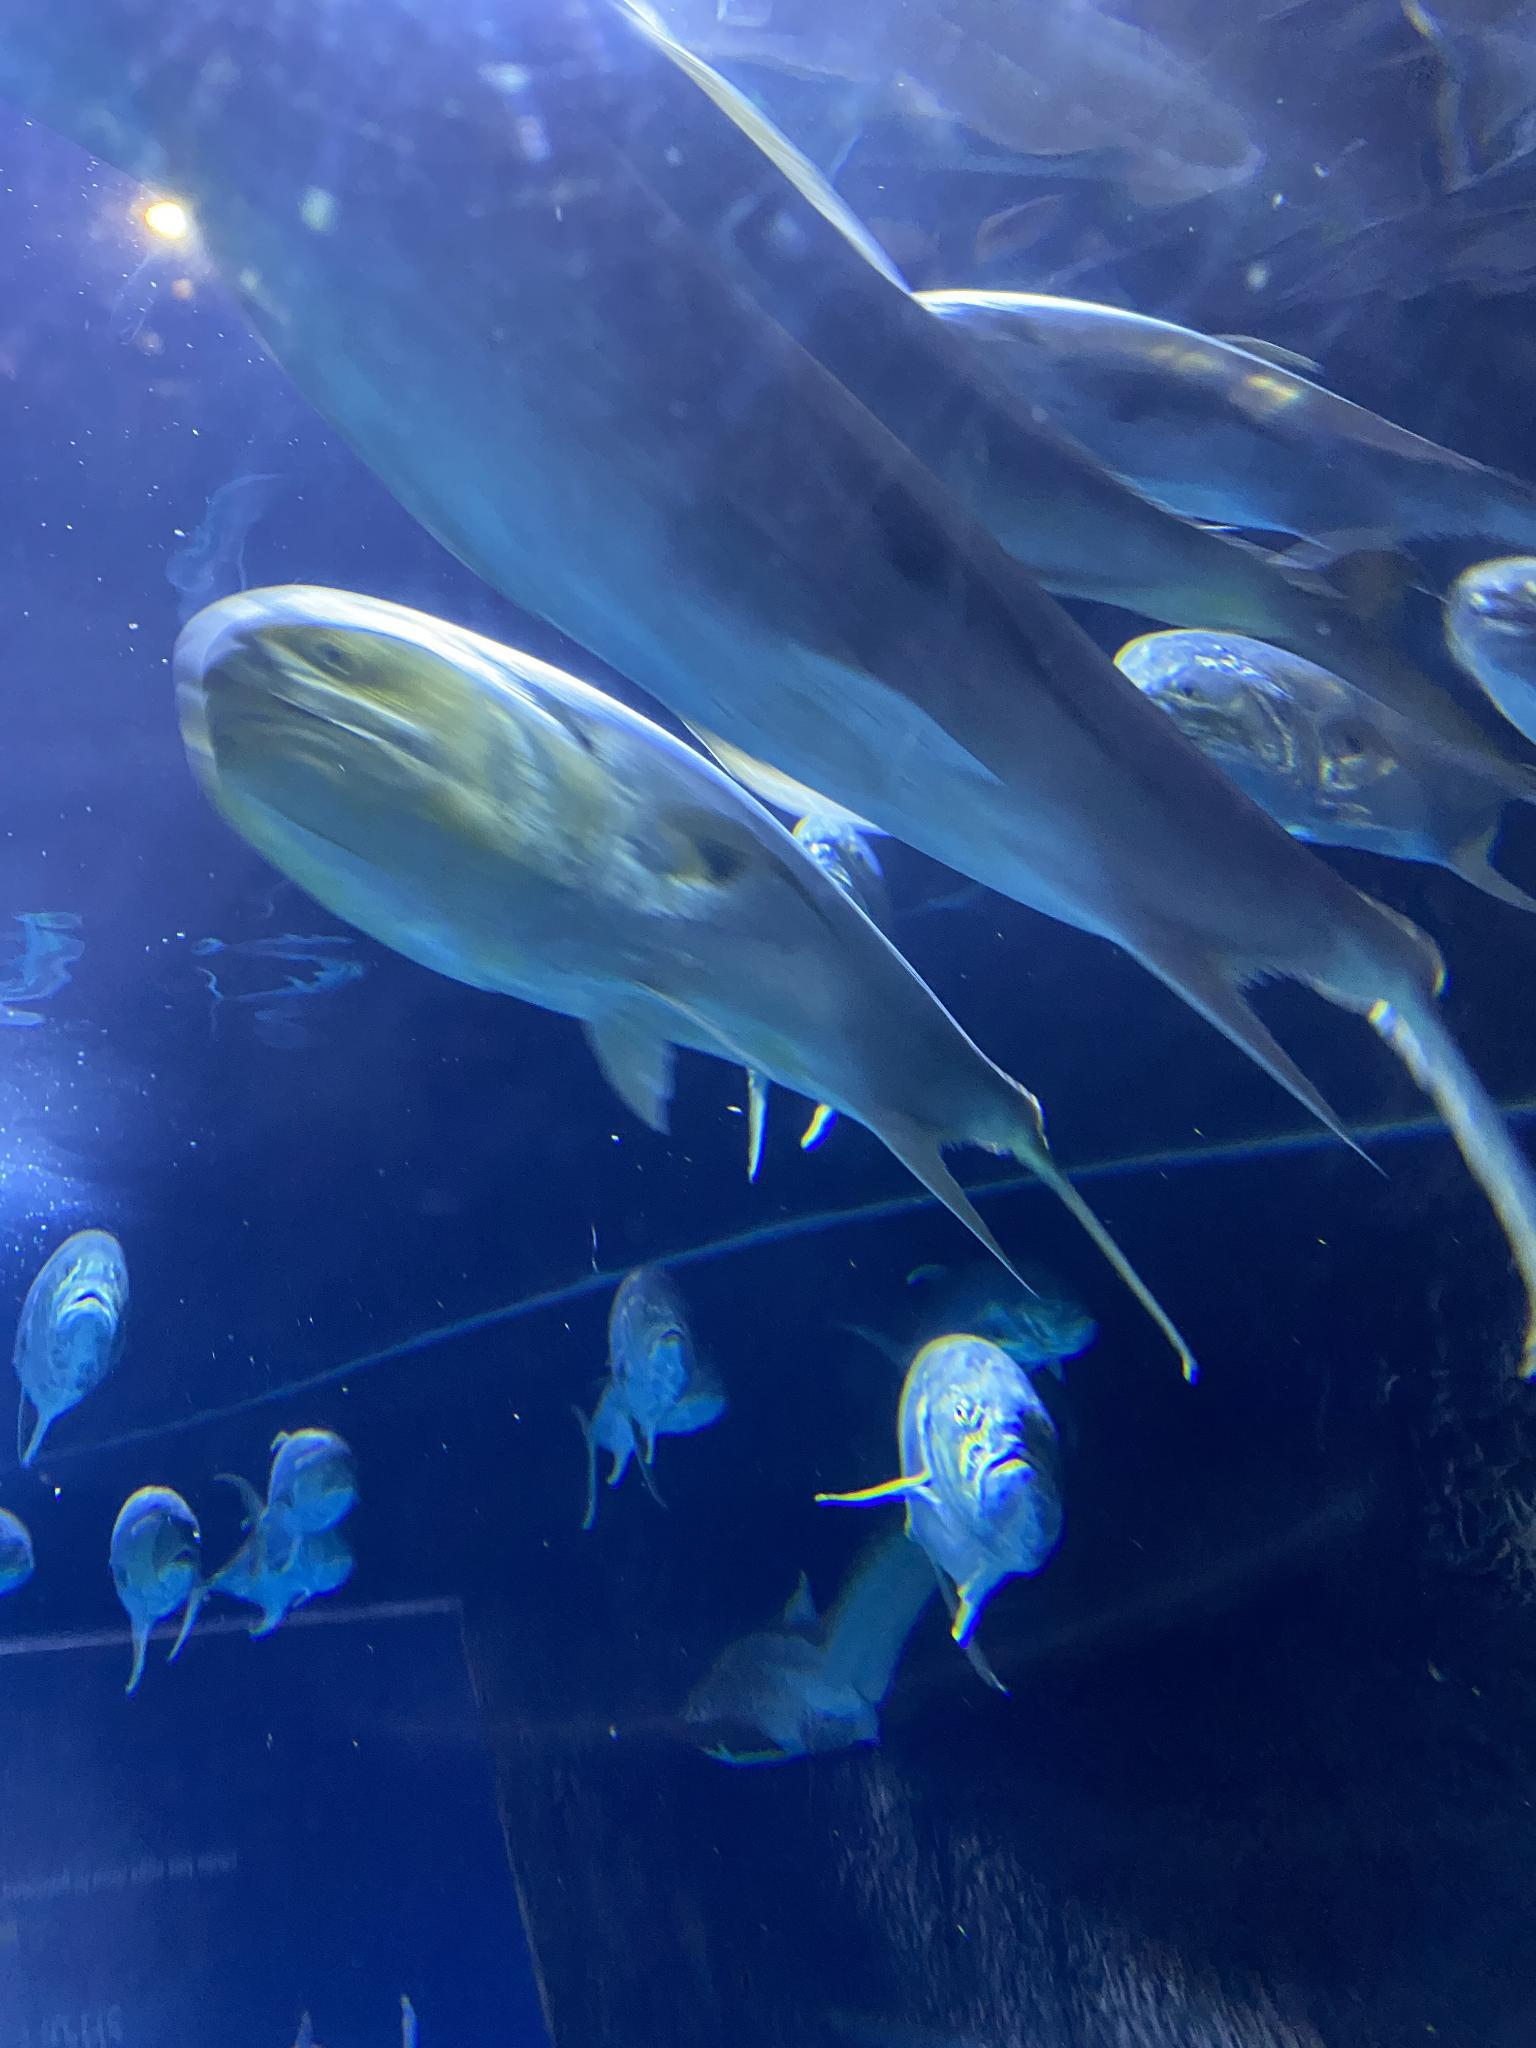fish: (231, 202, 1536, 1385), (176, 584, 1196, 1384), (900, 168, 1536, 618), (1113, 622, 1534, 919), (812, 1332, 1058, 1690), (11, 1229, 126, 1463), (574, 1359, 720, 1522), (899, 1264, 1092, 1363), (210, 1522, 350, 1648), (115, 1487, 200, 1684), (224, 1430, 357, 1553), (1450, 558, 1536, 742), (610, 1259, 689, 1451), (0, 1511, 39, 1601)
shark: (681, 1572, 879, 1771)
